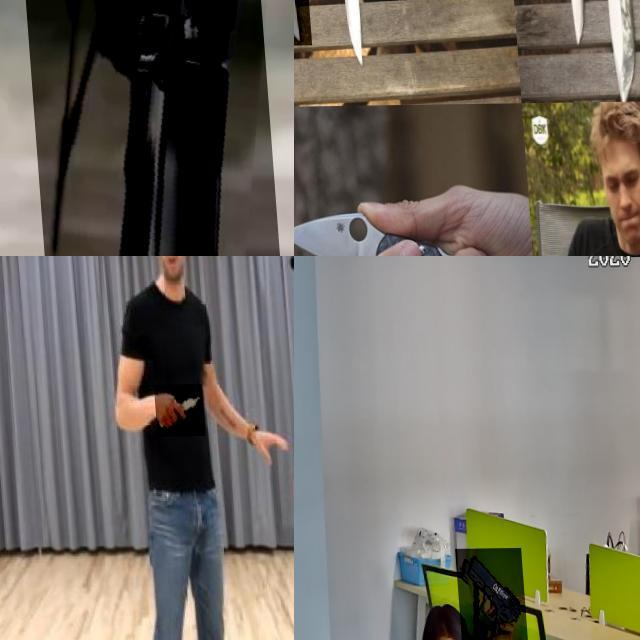-: (294, 191, 485, 256), (583, 0, 640, 127), (294, 0, 340, 100), (324, 0, 365, 89), (552, 0, 591, 74), (148, 386, 200, 438)
gun-knife-thesis - v11 Yolov5 augmented: (16, 0, 287, 256), (450, 549, 523, 640)
